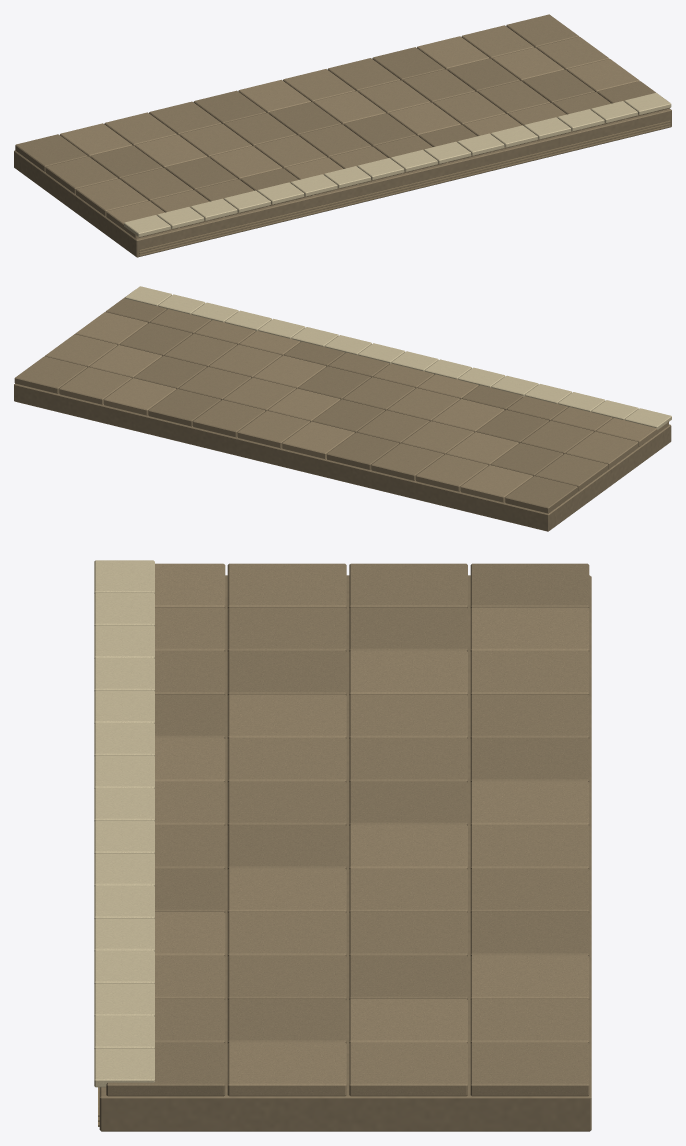
Rendered from platform-papercraft.glb.
3 renders of one model, top to bottom at view 1: azimuth 30°, elevation 25°; view 2: azimuth 150°, elevation 25°; view 3: azimuth 270°, elevation 25°, orthographic. The views are drawn at different scales.
Parts seen in each view (by area): view 1: EXPORT_Individual platform flagstone, EXPORT_Individual platform flagstone.001, EXPORT_Individual platform flagstone.002, EXPORT_Individual platform flagstone.003, EXPORT_Platform front coping cut edge, EXPORT_Platform card lamination; view 2: EXPORT_Individual platform flagstone, EXPORT_Individual platform flagstone.001, EXPORT_Individual platform flagstone.002, EXPORT_Individual platform flagstone.003, EXPORT_Platform front coping cut edge; view 3: EXPORT_Individual platform flagstone, EXPORT_Individual platform flagstone.002, EXPORT_Individual platform flagstone.001, EXPORT_Individual platform flagstone.003, EXPORT_Platform front coping cut edge.
Part boxes in pixels (x1,y1,x2,y2): EXPORT_Individual platform flagstone: (14, 47, 671, 257); EXPORT_Individual platform flagstone.001: (60, 36, 639, 238); EXPORT_Individual platform flagstone.002: (76, 25, 609, 227); EXPORT_Individual platform flagstone.003: (45, 14, 624, 216); EXPORT_Platform front coping cut edge: (124, 93, 671, 237); EXPORT_Platform card lamination: (139, 120, 670, 256); EXPORT_Individual platform flagstone: (14, 291, 671, 531); EXPORT_Individual platform flagstone.001: (75, 312, 668, 502); EXPORT_Individual platform flagstone.002: (45, 320, 638, 491); EXPORT_Individual platform flagstone.003: (14, 309, 608, 491); EXPORT_Platform front coping cut edge: (125, 286, 671, 429); EXPORT_Individual platform flagstone: (99, 563, 591, 1131); EXPORT_Individual platform flagstone.002: (155, 563, 589, 1096); EXPORT_Individual platform flagstone.001: (155, 563, 589, 1096); EXPORT_Individual platform flagstone.003: (155, 563, 589, 1096); EXPORT_Platform front coping cut edge: (94, 560, 154, 1087).
Size of the model in its own units: 5.7 by 0.2585 by 2.29.
Materials: 6 (6 with a texture image).
